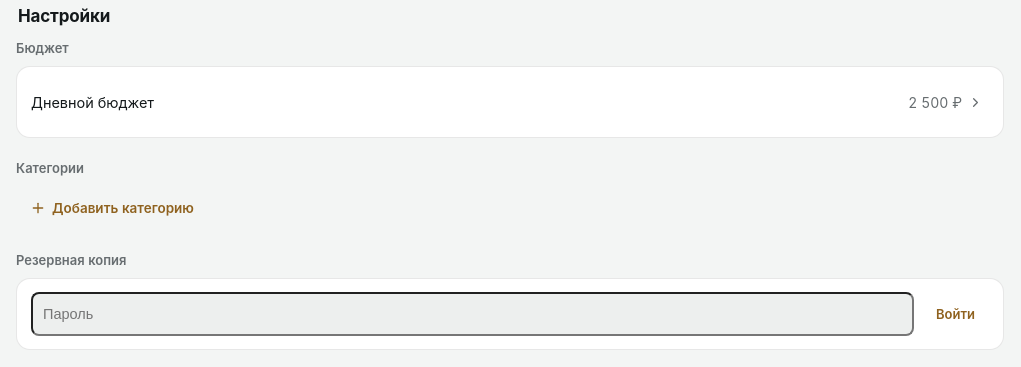
it: SettingsScreen — daily budget row › reveals an editable input when the rate row is tapped
Click the button with class "settings-row__value". click: click(946, 102)
box: [902,80,989,124]
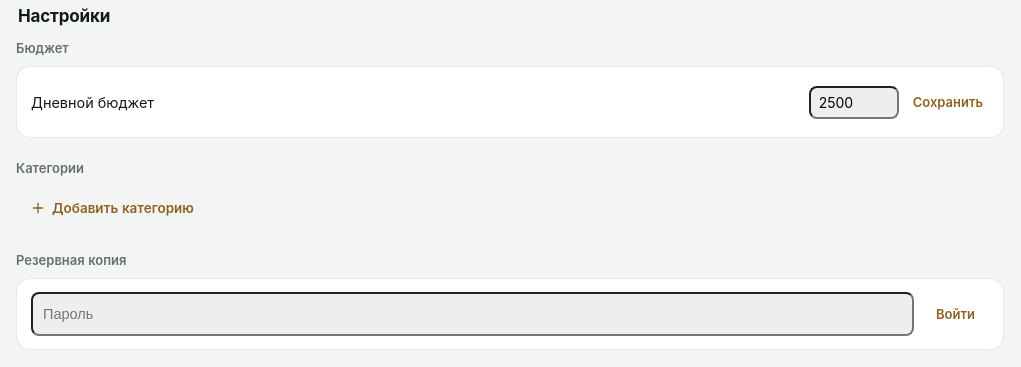
expect the number field with class "settings-row__rate-input" is shown: met, box [809,86,899,118]
